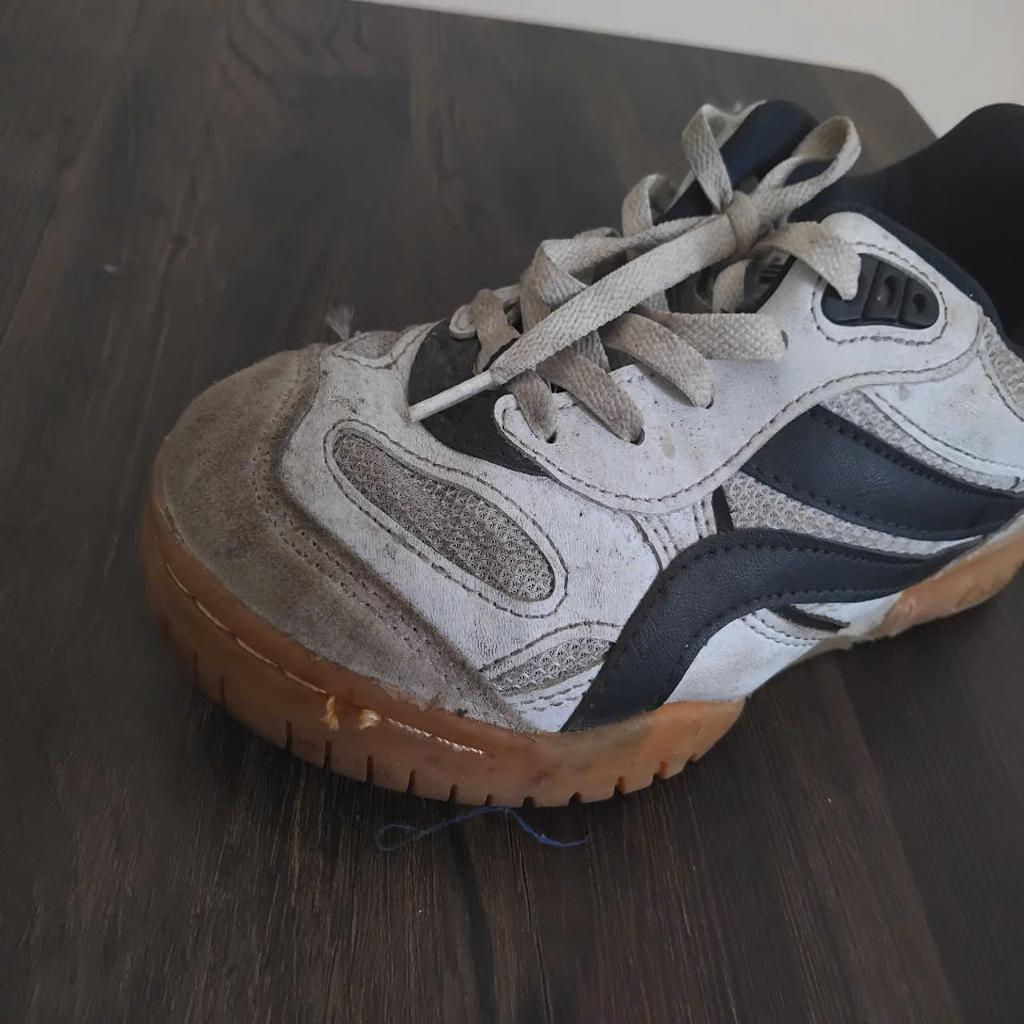broken: (317, 685, 384, 744)
